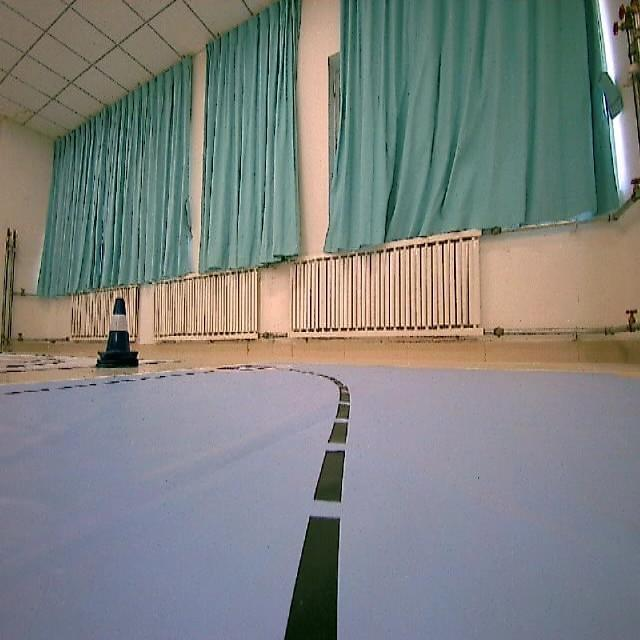obstacle: (91, 294, 140, 374)
